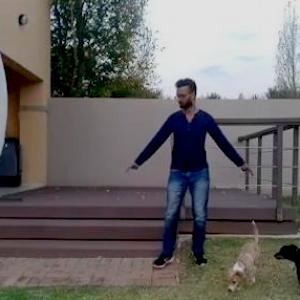land: (101, 92, 250, 260)
